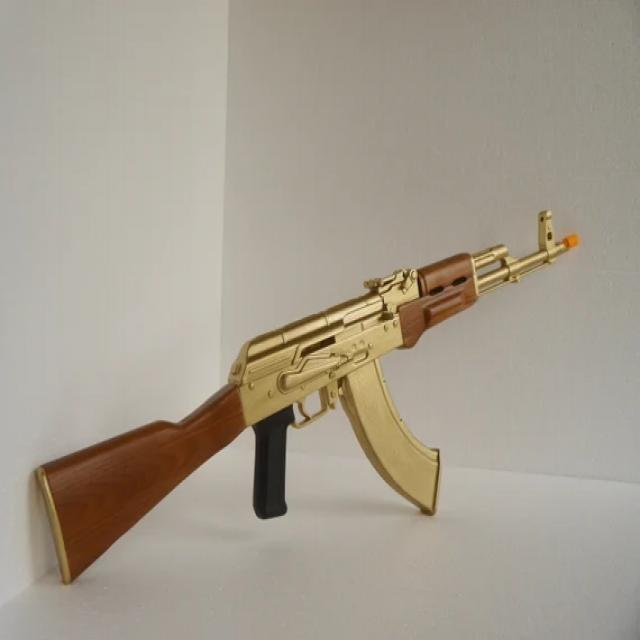weapon: (36, 210, 582, 588)
